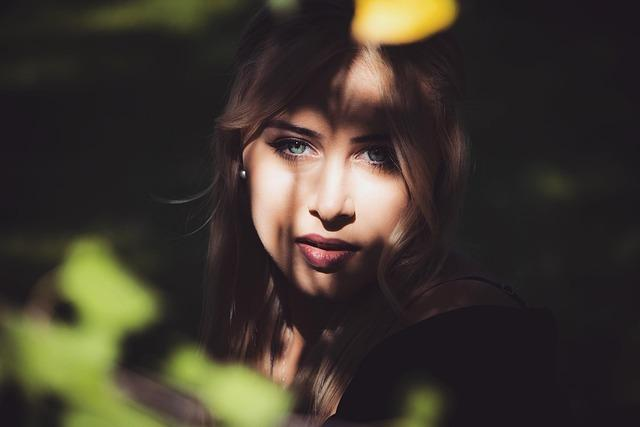Non_Gorille: (186, 3, 510, 427)
